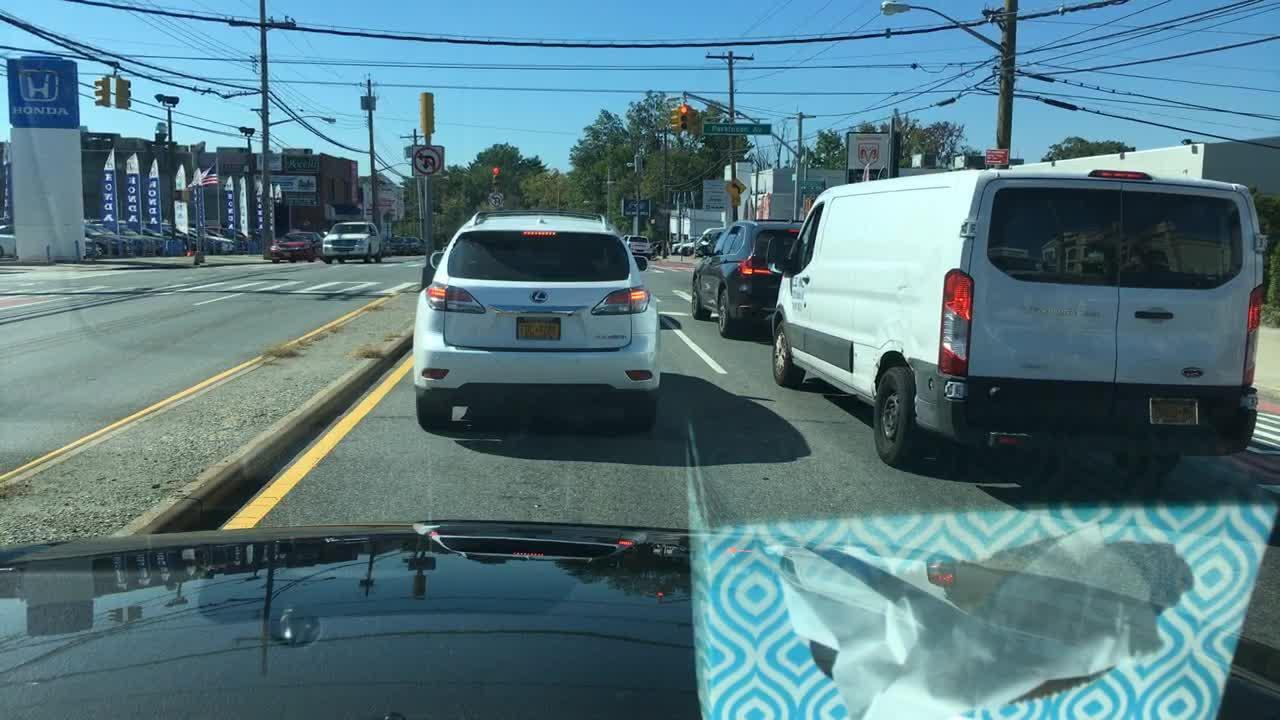lexus: (524, 278, 559, 314)
